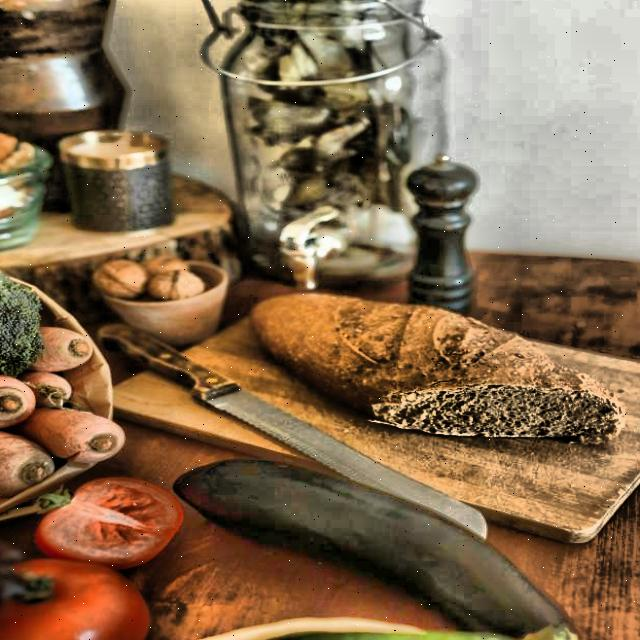knife: (95, 312, 505, 546)
